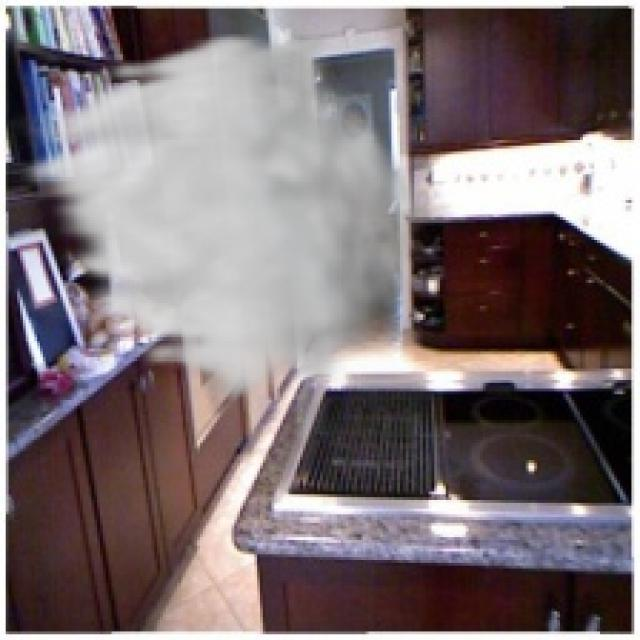Smoke: (6, 28, 428, 406)
